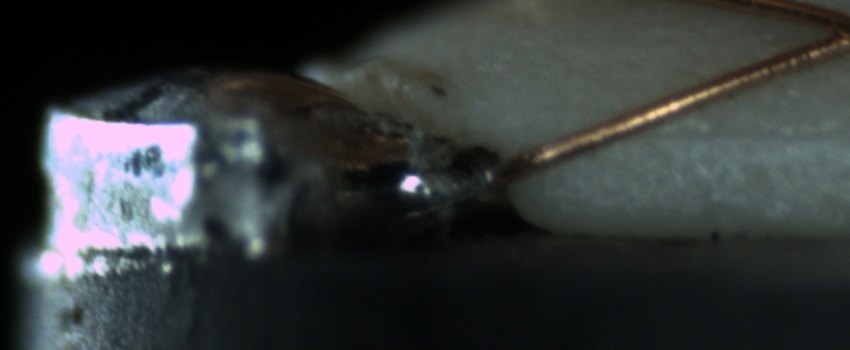CL: (799, 3, 849, 61)
DL: (628, 101, 846, 163)
